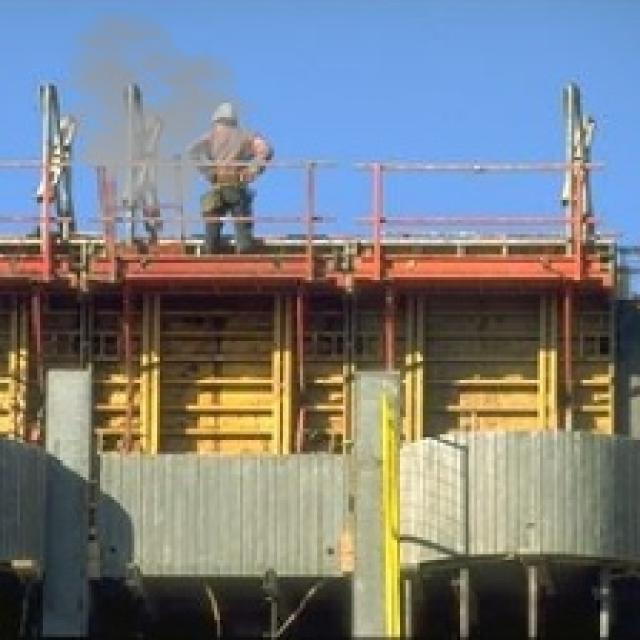smoke: (34, 9, 263, 240)
